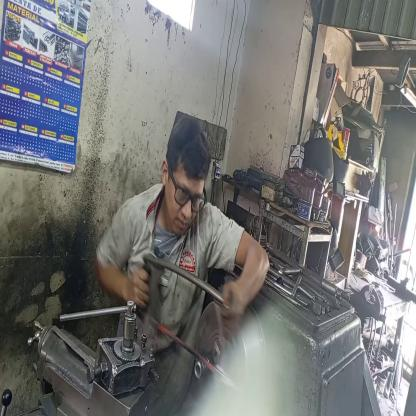lentes: (166, 165, 209, 223)
